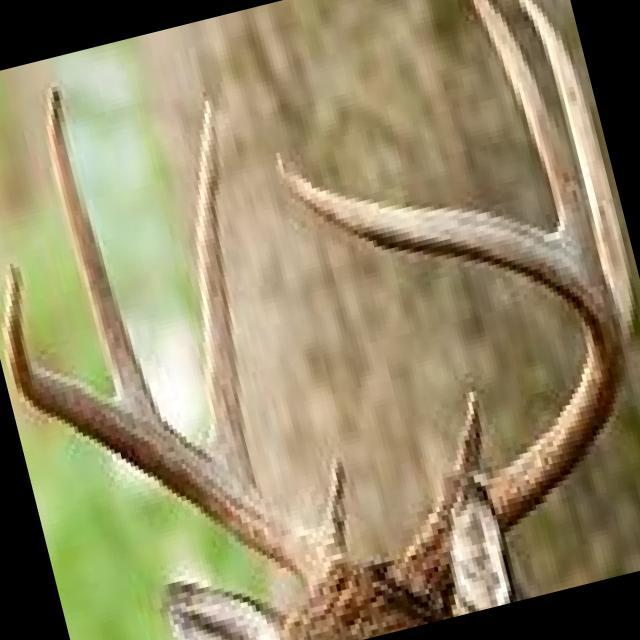L-G1: (441, 382, 485, 491)
L-G2: (513, 0, 637, 355)
L-G3: (468, 0, 603, 276)
R-F: (2, 254, 350, 613)
R-G1: (318, 453, 350, 562)
R-G2: (190, 89, 261, 493)
R-G3: (45, 75, 167, 425)
